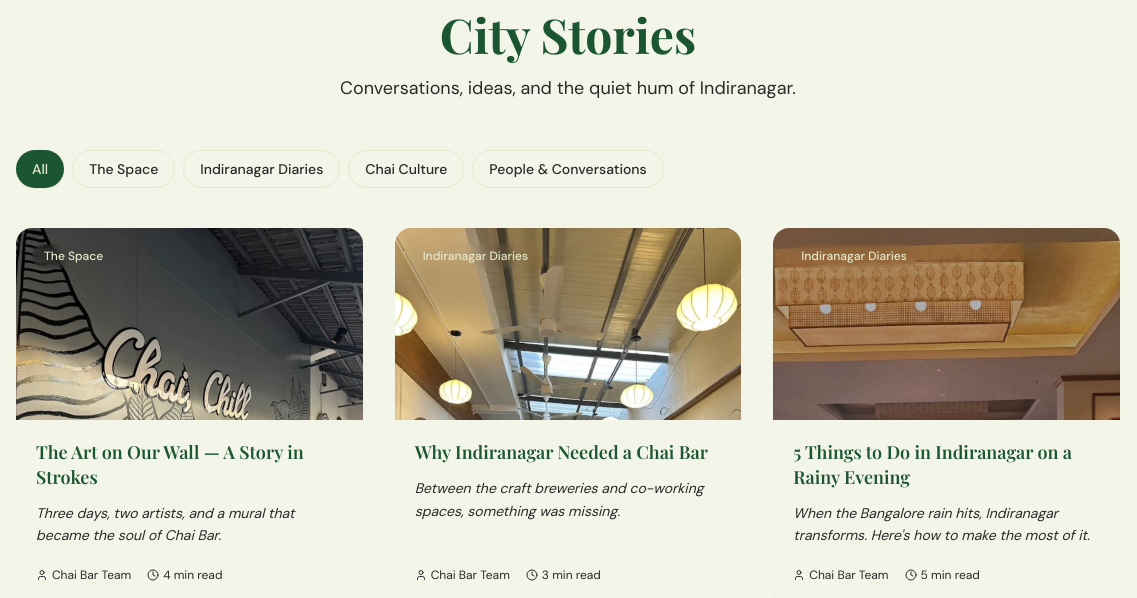
Scenario: BlogList › shows empty state when a category with no posts is selected
This screenshot has width=1137, height=598.
Click the button "People & Conversations" at (568, 169), box [472,150,664,188]
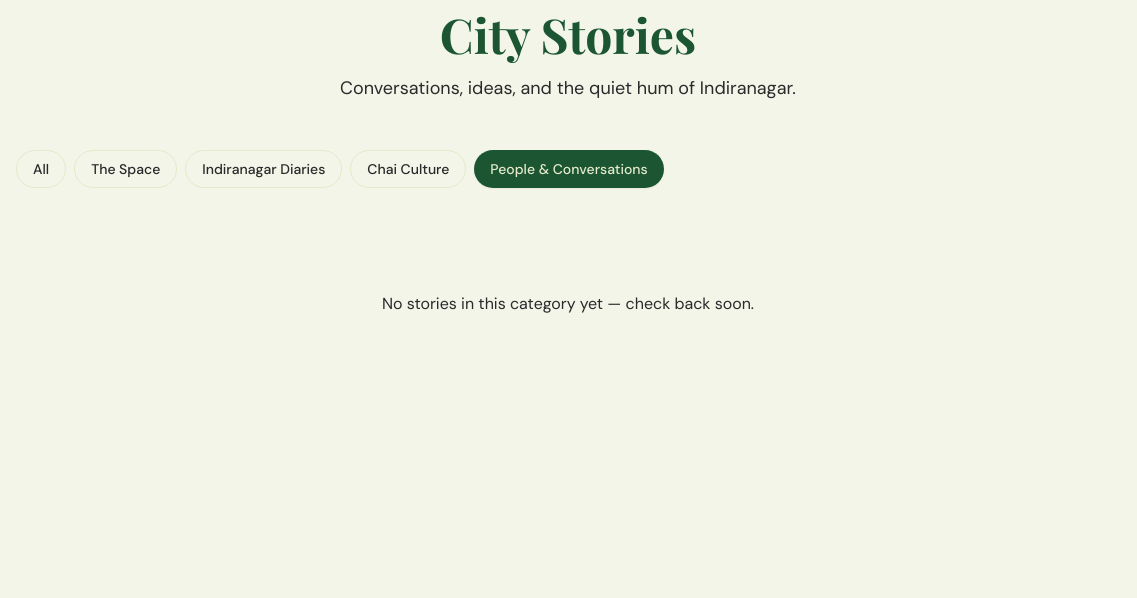
Expected: the text "No stories in this category yet — check back soon." is shown, [382,293,754,314]
